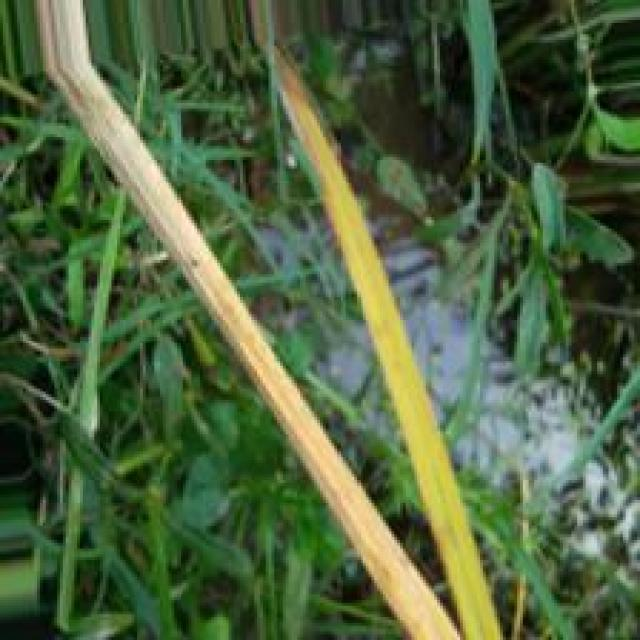Bacterial_Leaf_Blight: (61, 74, 462, 640)
